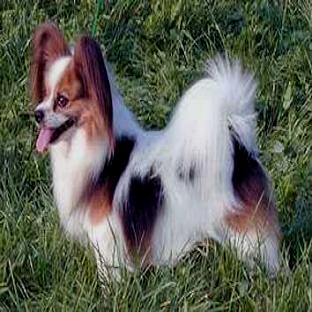Animal: (31, 22, 279, 273)
